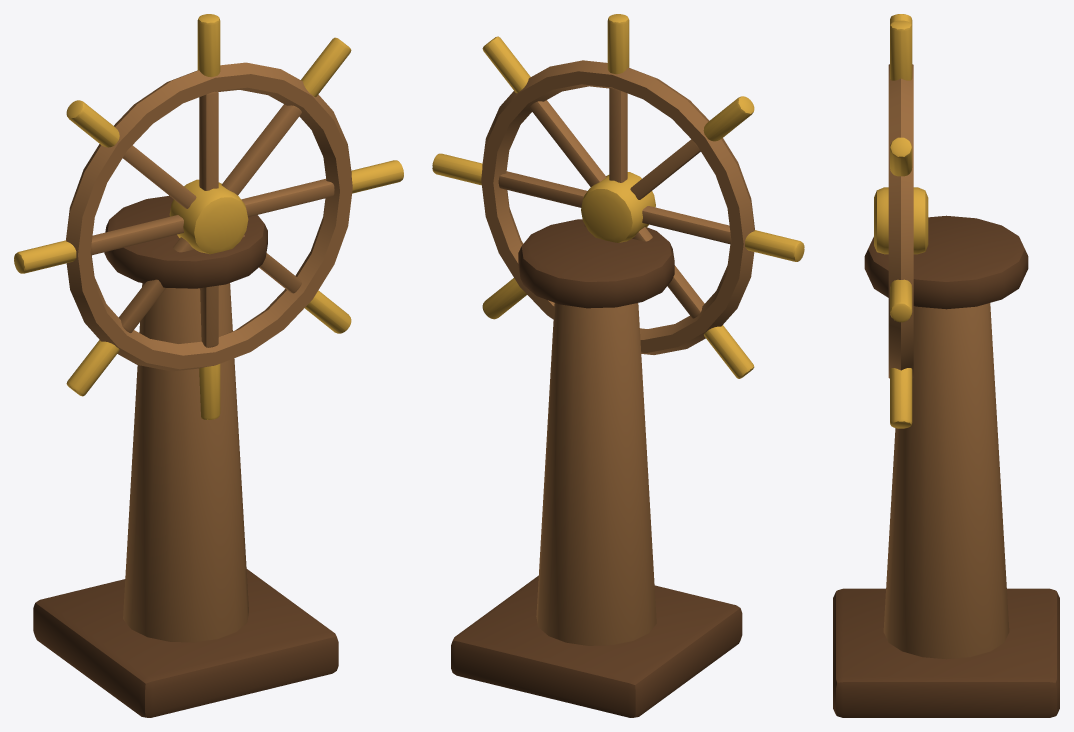
Rendered from ShipWheel.glb.
The picture shows the model from 3 angles, left to right: view 1: azimuth 30°, elevation 25°; view 2: azimuth 150°, elevation 25°; view 3: azimuth 270°, elevation 25°; orthographic projection. The views are drawn at different scales.
Parts seen in each view (by area): view 1: ShipWheel; view 2: ShipWheel; view 3: ShipWheel.
Boxes of the visible parts, <box> form: ShipWheel: <box>14,14,403,717</box>; ShipWheel: <box>432,14,804,717</box>; ShipWheel: <box>833,14,1059,717</box>.
Size of the model in its own units: 0.96 by 1.58 by 0.5.
